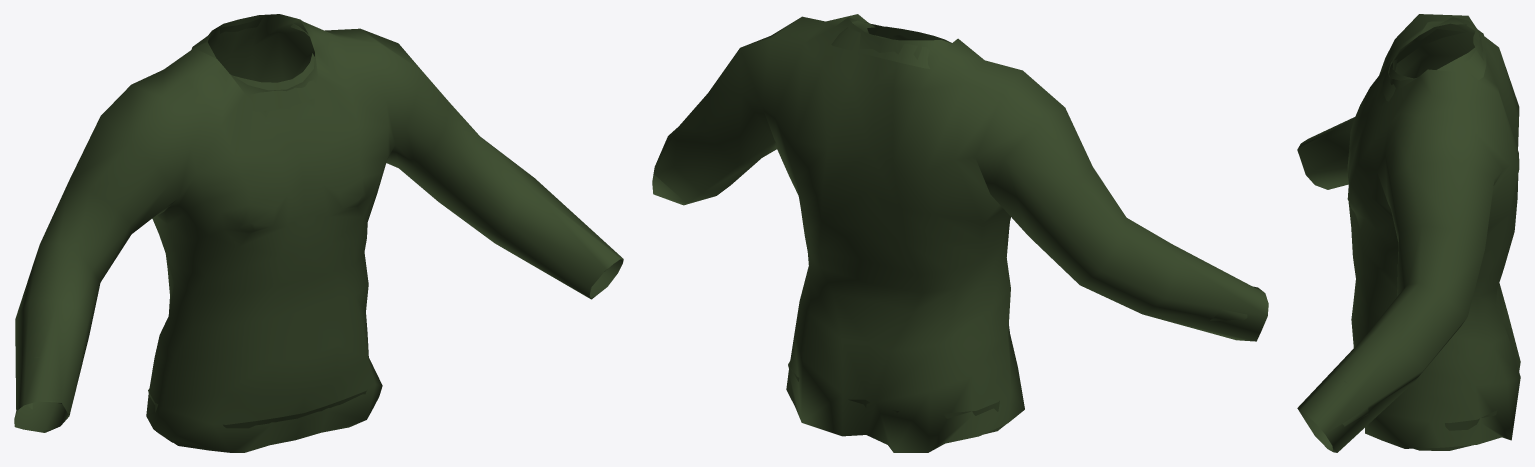
The model's file is bomber.glb.
3 renders of one model, left to right at view 1: azimuth 30°, elevation 25°; view 2: azimuth 150°, elevation 25°; view 3: azimuth 270°, elevation 25°, orthographic. The views are drawn at different scales.
Parts seen in each view (by area): view 1: bomber; view 2: bomber; view 3: bomber.
Boxes of the visible parts, x1,y1,x2,y2 form: bomber: (14,14,623,452); bomber: (652,14,1268,452); bomber: (1297,14,1520,452).
Size of the model in its own units: 1.09 by 0.6722 by 0.3578.
